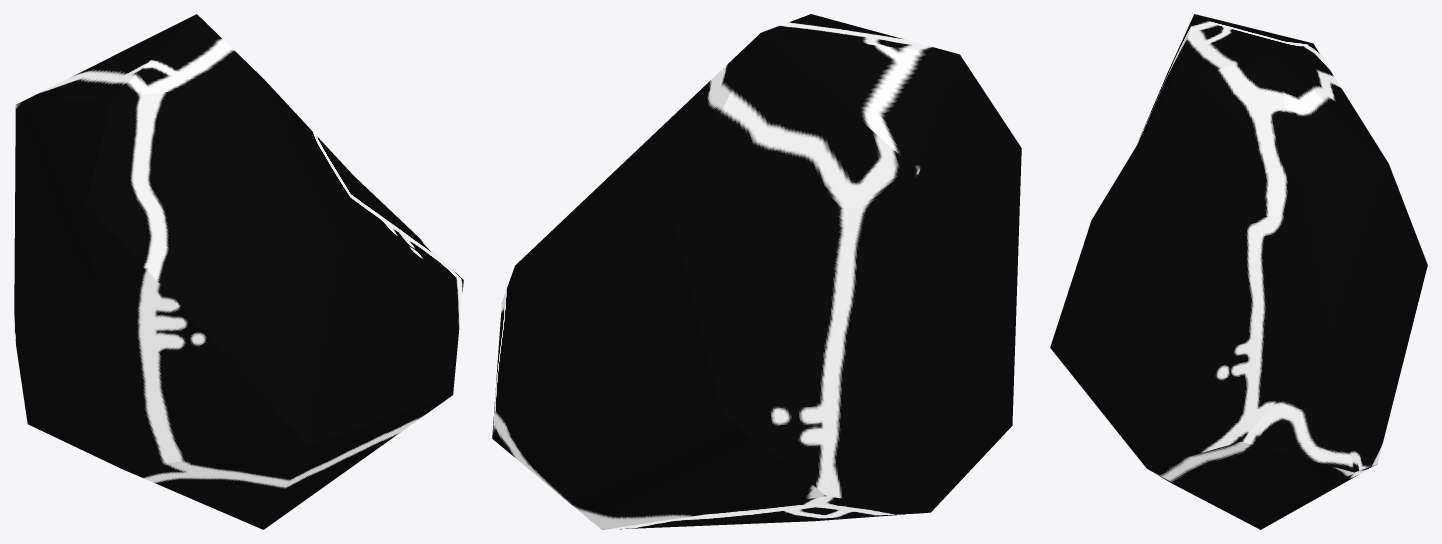
The model's file is asteroid2.glb.
The picture shows the model from 3 angles, left to right: view 1: azimuth 30°, elevation 25°; view 2: azimuth 150°, elevation 25°; view 3: azimuth 270°, elevation 25°; orthographic projection. The views are drawn at different scales.
Visible parts, largest first — view 1: rock.010; view 2: rock.010; view 3: rock.010.
Boxes of the visible parts, x1=… form: rock.010: x1=14, y1=14, x2=463, y2=529; rock.010: x1=492, y1=14, x2=1021, y2=529; rock.010: x1=1050, y1=14, x2=1427, y2=529.
Size of the model in its own units: 0.7734 by 0.8403 by 0.6742.
Materials: 1 (1 with a texture image).
